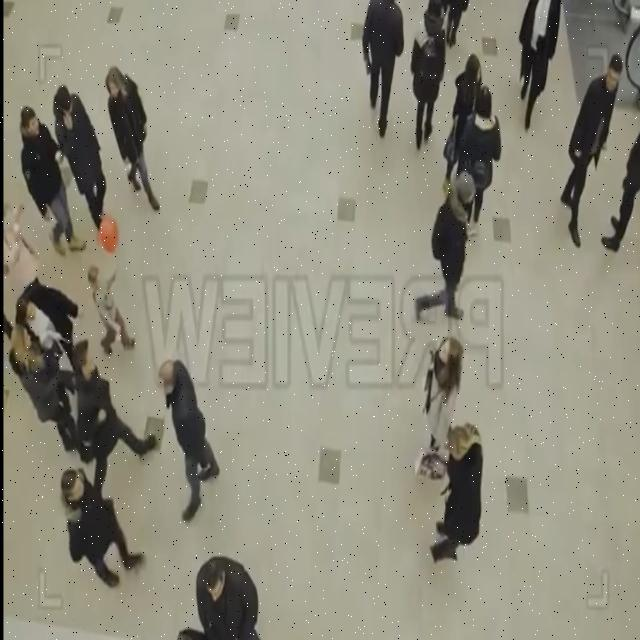humans: (71, 345, 158, 480), (562, 52, 624, 237), (56, 476, 146, 594), (413, 168, 480, 326), (158, 356, 218, 525), (11, 111, 86, 246), (422, 418, 484, 568), (105, 64, 160, 213), (53, 84, 104, 224), (8, 324, 68, 442), (512, 0, 562, 132), (452, 85, 503, 214), (408, 0, 447, 152), (192, 554, 264, 635), (361, 0, 403, 138), (446, 51, 487, 187), (88, 262, 135, 358), (15, 274, 84, 336), (422, 334, 465, 416)
